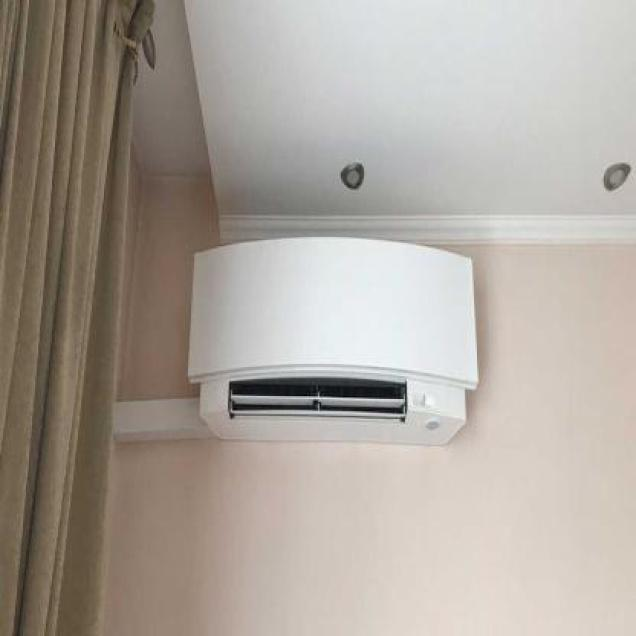AC: (186, 233, 479, 447)
